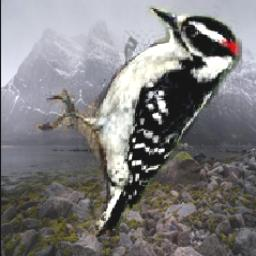Woodpecker: (34, 7, 241, 238)
